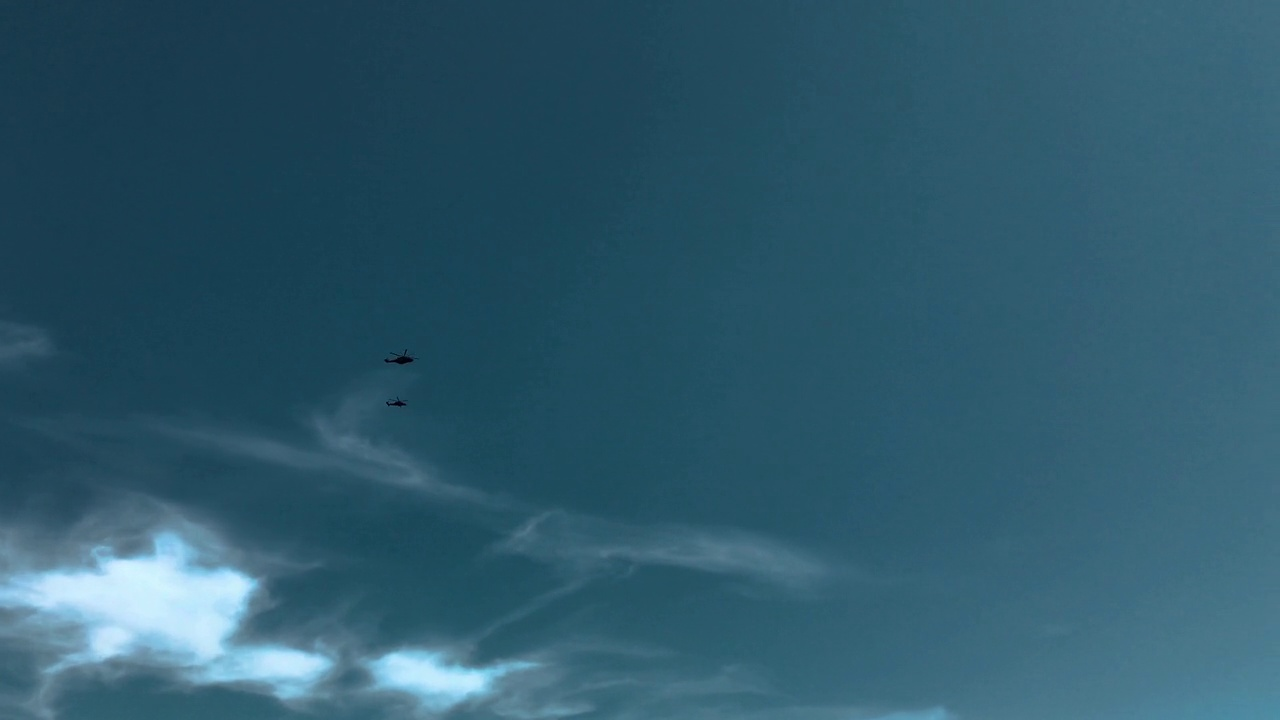heli: (384, 347, 419, 365), (385, 396, 408, 409)
